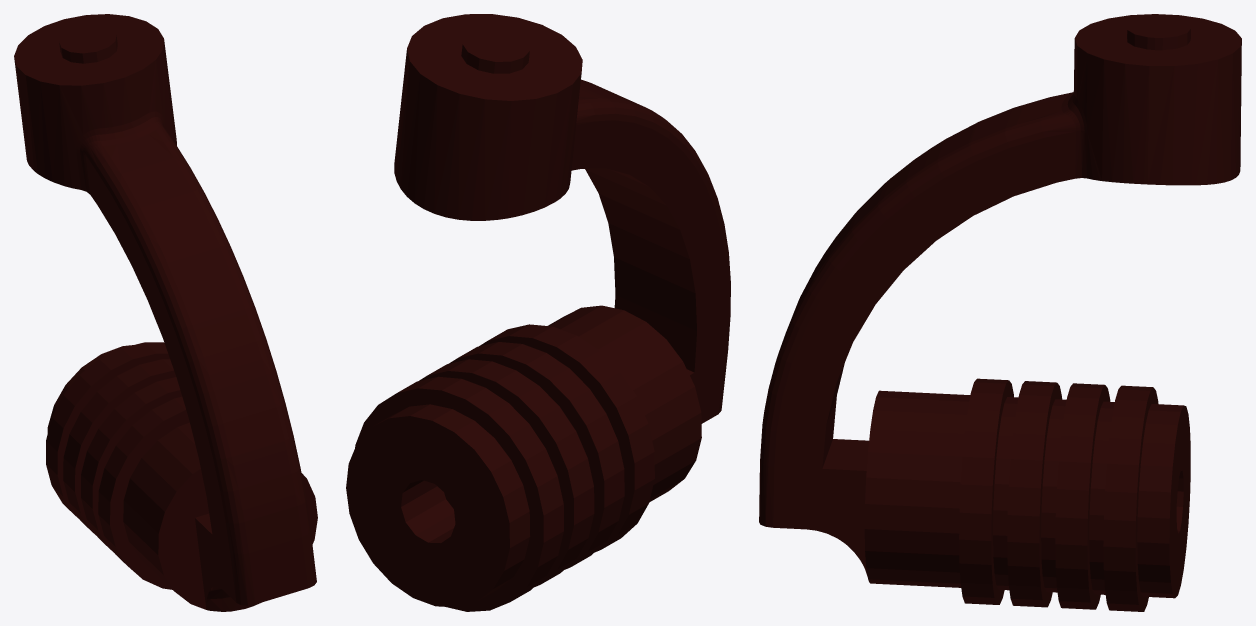
The model's file is Mars6Mars_Rover__Curiosity_1_0__-_33_Front_Wheel_Servo_mech.006.dae.
The picture shows the model from 3 angles, left to right: view 1: azimuth 30°, elevation 25°; view 2: azimuth 150°, elevation 25°; view 3: azimuth 270°, elevation 25°; orthographic projection. The views are drawn at different scales.
Parts seen in each view (by area): view 1: tmp_export_Mars6Mars_Rover__Curiosity_1_0__-_33_Front_Wheel_; view 2: tmp_export_Mars6Mars_Rover__Curiosity_1_0__-_33_Front_Wheel_; view 3: tmp_export_Mars6Mars_Rover__Curiosity_1_0__-_33_Front_Wheel_.
Part boxes in pixels (box(x1,y1,x2,y2)): tmp_export_Mars6Mars_Rover__Curiosity_1_0__-_33_Front_Wheel_: box(14, 14, 317, 611); tmp_export_Mars6Mars_Rover__Curiosity_1_0__-_33_Front_Wheel_: box(346, 14, 730, 611); tmp_export_Mars6Mars_Rover__Curiosity_1_0__-_33_Front_Wheel_: box(759, 14, 1241, 611).
Size of the model in its own units: 0.3545 by 0.6775 by 0.8563.
